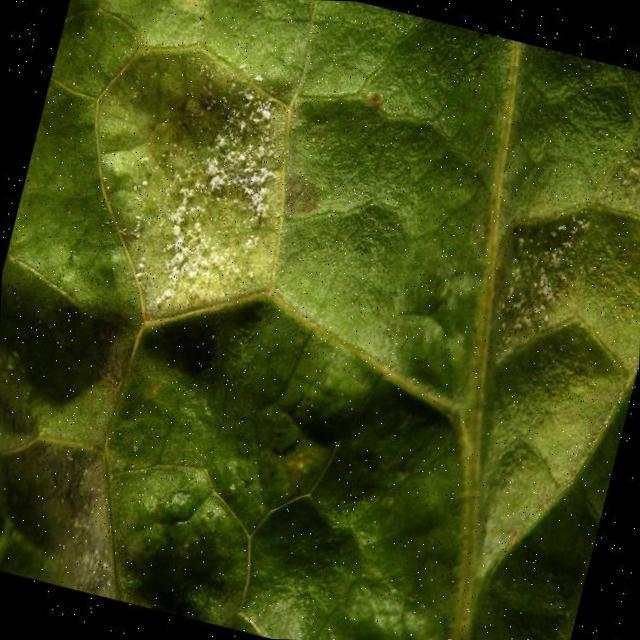Powdery_Mildew: (61, 16, 337, 356)
